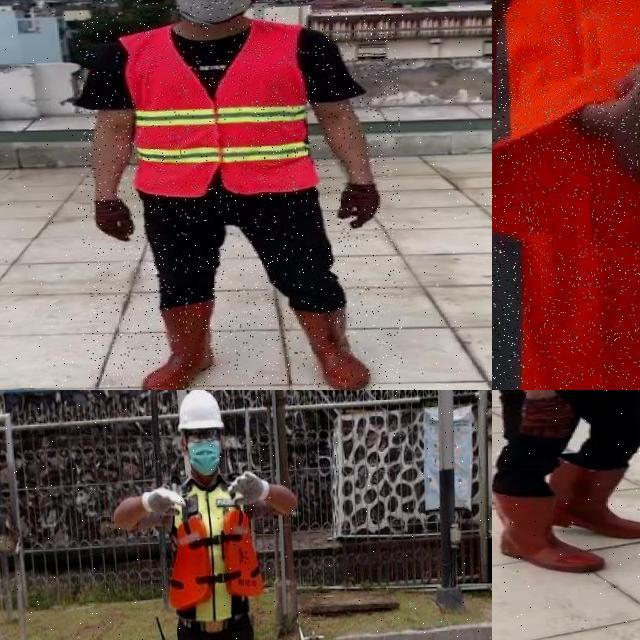boots: (492, 484, 600, 574), (283, 300, 372, 390), (546, 455, 640, 537), (139, 301, 216, 390)
helmet: (175, 390, 225, 437)
vest: (492, 0, 640, 390), (123, 21, 320, 197), (168, 474, 262, 628)
